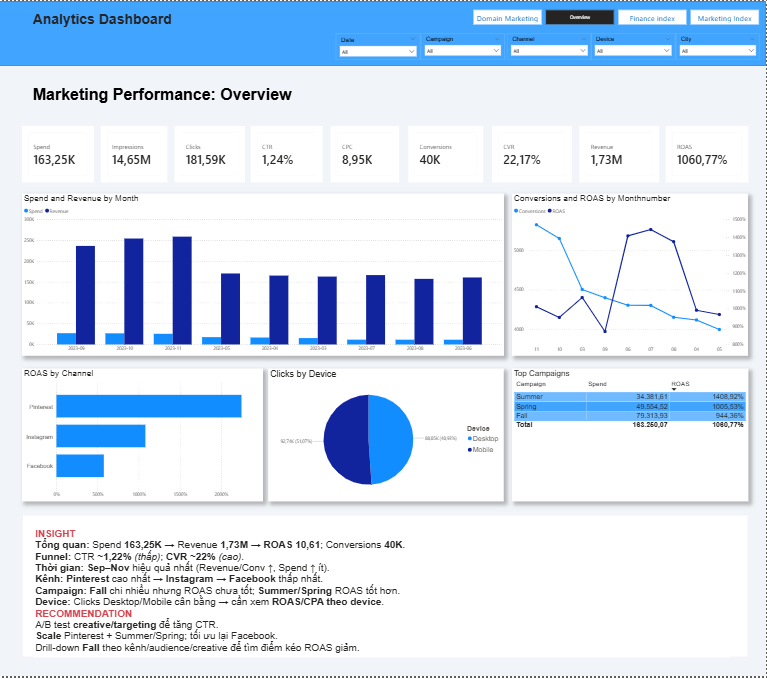

This screenshot's page, from the dashboard's own definition file:
{"tool":"powerbi","page":{"name":"Overview","canvas":[2050,1800],"ordinal":1},"visuals":[{"type":"textbox","box":[65.7,221.4,748.6,62.9],"z":0},{"type":"shape","box":[0,0,2050,172.9],"z":1000},{"type":"textbox","box":[90,22.5,402.5,60],"z":2000},{"type":"pageNavigator","box":[1271.4,22.9,764.3,40],"z":3000},{"type":"cardVisual","fields":{"Data":["Sum(data.Spend, GBP)"]},"box":[68,332,192,150],"z":4000},{"type":"cardVisual","fields":{"Data":["Sum(data.Impressions)"]},"box":[275,332.5,177.5,150],"z":5000},{"type":"cardVisual","fields":{"Data":["Sum(data.Clicks)"]},"box":[472,332,188,150],"z":6000},{"type":"cardVisual","fields":{"Data":["#Measure.CTR"]},"box":[676,332,192,150],"z":7000},{"type":"cardVisual","fields":{"Data":["Sum(data.Daily Average CPC)"]},"box":[890,332,182,150],"z":8000},{"type":"cardVisual","fields":{"Data":["Sum(data.Conversions)"]},"box":[1098,332,200,150],"z":9000},{"type":"cardVisual","fields":{"Data":["#Measure.CVR"]},"box":[1320,332.5,212.5,150],"z":10000},{"type":"cardVisual","fields":{"Data":["#Measure.Revenue"]},"box":[1552.5,332.5,212.5,150],"z":11000},{"type":"cardVisual","fields":{"Data":["#Measure.ROAS"]},"box":[1782.5,332.5,220,150],"z":12000},{"type":"lineClusteredColumnComboChart","title":"Spend and Revenue by Month","fields":{"Y":["Sum(data.Spend, GBP)","#Measure.Revenue"],"Category":["Date.YearMonth"]},"box":[67.5,512.5,1285,432.5],"z":13000},{"type":"lineChart","fields":{"Y":["Sum(data.Conversions)"],"Category":["Date.Monthnumber"],"Y2":["#Measure.ROAS"]},"box":[1374.3,512.9,628.6,432.9],"z":14000},{"type":"clusteredBarChart","fields":{"Category":["data.Channel"],"Y":["#Measure.ROAS"]},"box":[66,980,642,354],"z":15000},{"type":"pieChart","fields":{"Y":["Sum(data.Clicks)"],"Series":["data.Device"]},"box":[724,980,628,354],"z":16000},{"type":"tableEx","title":"Top Campaigns","fields":{"Values":["data.Campaign","Sum(data.Spend, GBP)","#Measure.ROAS"]},"box":[1374,980,630,354],"z":17000},{"type":"shape","box":[66.7,1370,1936.7,380],"z":18000},{"type":"textbox","box":[96.7,1400,1860,350],"z":19000},{"type":"slicer","fields":{"Values":["data.Date"]},"box":[902.9,87.1,225.7,70],"z":20000},{"type":"slicer","fields":{"Values":["data.Campaign"]},"box":[1128.6,87.1,224.3,70],"z":21000},{"type":"slicer","fields":{"Values":["data.Channel"]},"box":[1358.6,87.1,225.7,70],"z":22000},{"type":"slicer","fields":{"Values":["data.Device"]},"box":[1584.3,87.1,225.7,70],"z":23000},{"type":"slicer","fields":{"Values":["data.City/Location"]},"box":[1810,87.1,224.3,70],"z":24000}]}

Visuals, with their boxes in screenshot pixels (x1, y1, x2, y2), scaled from the page's 2050x1800 canvas onto the 767x679 screenshot:
textbox: l=25, t=84, r=305, b=107
shape: l=0, t=0, r=766, b=65
textbox: l=34, t=8, r=184, b=31
pageNavigator: l=476, t=9, r=762, b=24
cardVisual - Sum(data.Spend, GBP): l=25, t=125, r=97, b=182
cardVisual - Sum(data.Impressions): l=103, t=125, r=169, b=182
cardVisual - Sum(data.Clicks): l=177, t=125, r=247, b=182
cardVisual - #Measure.CTR: l=253, t=125, r=325, b=182
cardVisual - Sum(data.Daily Average CPC): l=333, t=125, r=401, b=182
cardVisual - Sum(data.Conversions): l=411, t=125, r=486, b=182
cardVisual - #Measure.CVR: l=494, t=125, r=573, b=182
cardVisual - #Measure.Revenue: l=581, t=125, r=660, b=182
cardVisual - #Measure.ROAS: l=667, t=125, r=749, b=182
"Spend and Revenue by Month" lineClusteredColumnComboChart: l=25, t=193, r=506, b=356
lineChart - Sum(data.Conversions) x Date.Monthnumber: l=514, t=193, r=749, b=357
clusteredBarChart - data.Channel x #Measure.ROAS: l=25, t=370, r=265, b=503
pieChart - Sum(data.Clicks) x data.Device: l=271, t=370, r=506, b=503
"Top Campaigns" tableEx: l=514, t=370, r=750, b=503
shape: l=25, t=517, r=750, b=660
textbox: l=36, t=528, r=732, b=660
slicer - data.Date: l=338, t=33, r=422, b=59
slicer - data.Campaign: l=422, t=33, r=506, b=59
slicer - data.Channel: l=508, t=33, r=593, b=59
slicer - data.Device: l=593, t=33, r=677, b=59
slicer - data.City/Location: l=677, t=33, r=761, b=59
